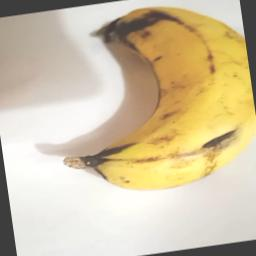Banana Unripe: (45, 0, 256, 205)
